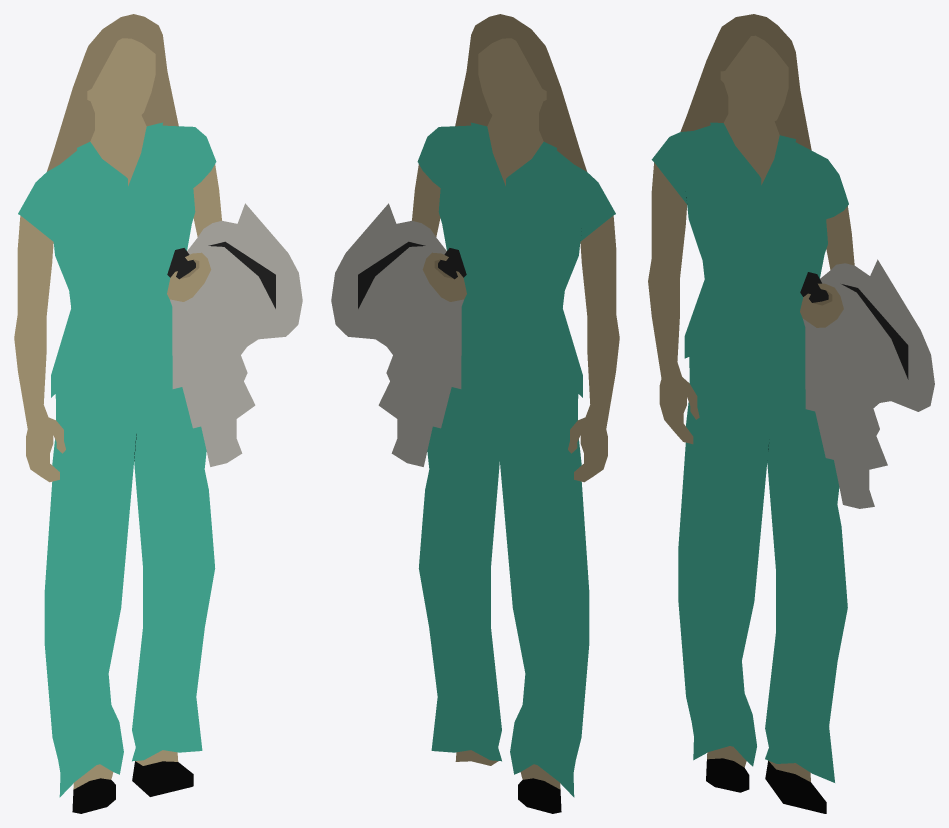
The model's file is 2D_Woman_Front-scrubs.fbx.
3 views of the same model, side by side, from view 1: azimuth 30°, elevation 25°; view 2: azimuth 150°, elevation 25°; view 3: azimuth 330°, elevation 25° (orthographic).
Visible parts, largest first — view 1: Mesh01; view 2: Mesh01; view 3: Mesh01.
Part boxes in pixels (box(x1,y1,x2,y2)): Mesh01: box(14, 14, 302, 813); Mesh01: box(331, 14, 619, 813); Mesh01: box(648, 14, 934, 813).
Size of the model in its own units: 38.37 by 100 by 0.0147.
